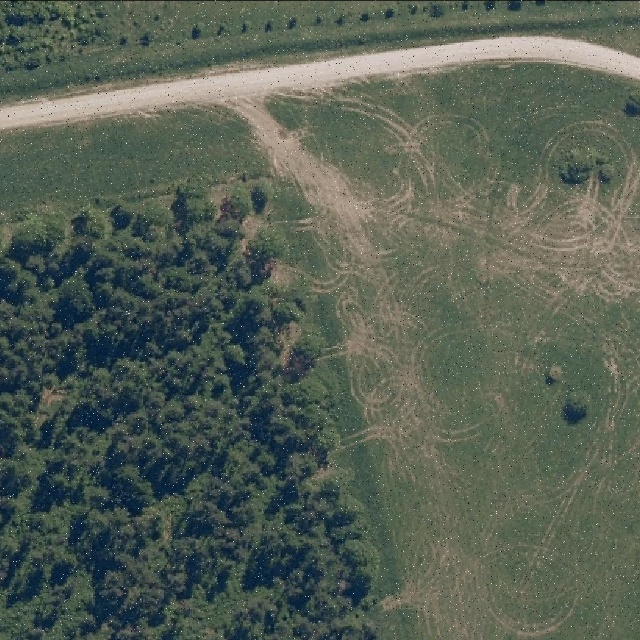vegetation: (0, 182, 379, 640)
